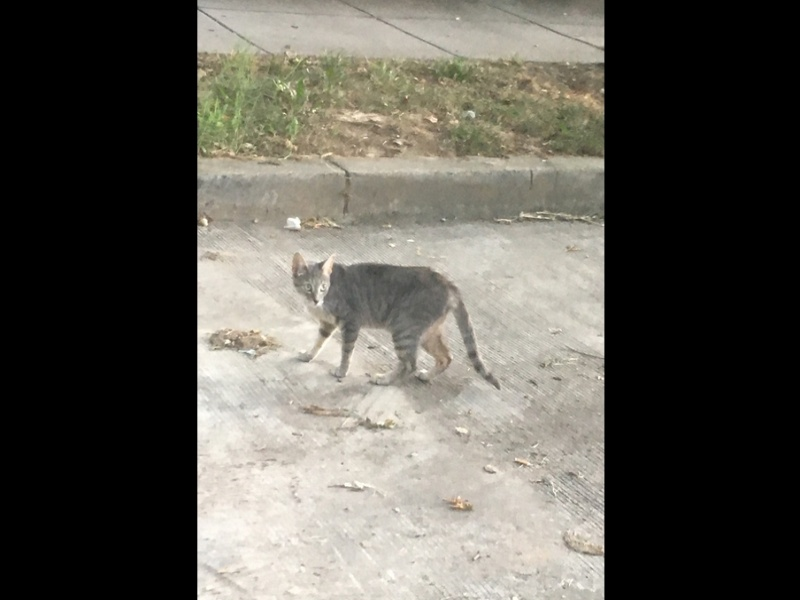cat: (289, 251, 505, 395)
